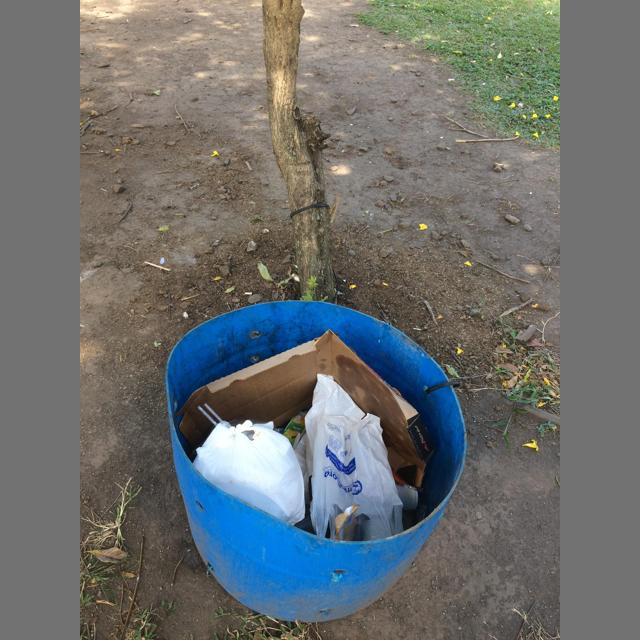litter: (176, 329, 437, 487), (294, 374, 404, 539), (193, 420, 305, 525), (334, 505, 361, 541), (281, 412, 307, 447), (396, 484, 418, 511), (197, 405, 218, 426), (204, 403, 223, 422), (245, 293, 253, 295)
